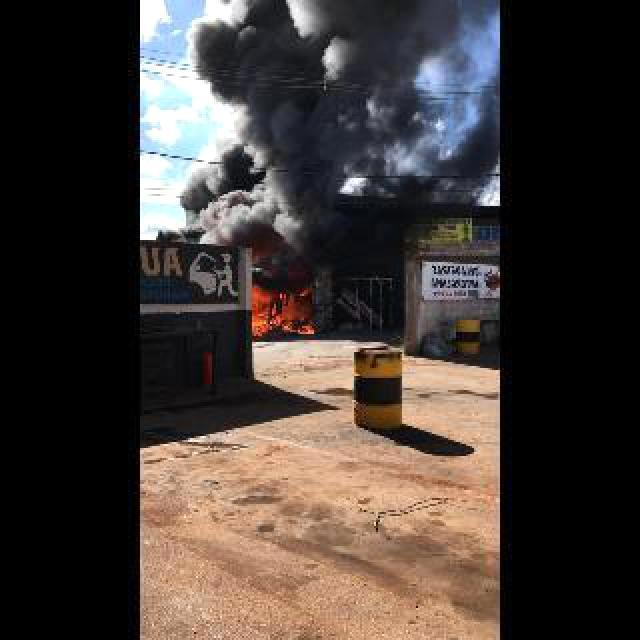Fire: (250, 284, 308, 342)
Smoke: (167, 0, 502, 250)
